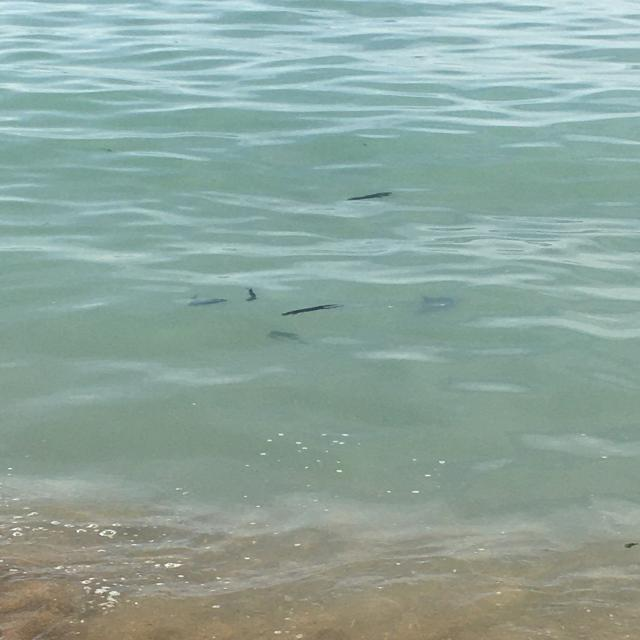Plastic: (280, 300, 346, 318), (182, 294, 232, 310), (347, 189, 394, 205), (242, 285, 261, 303)
